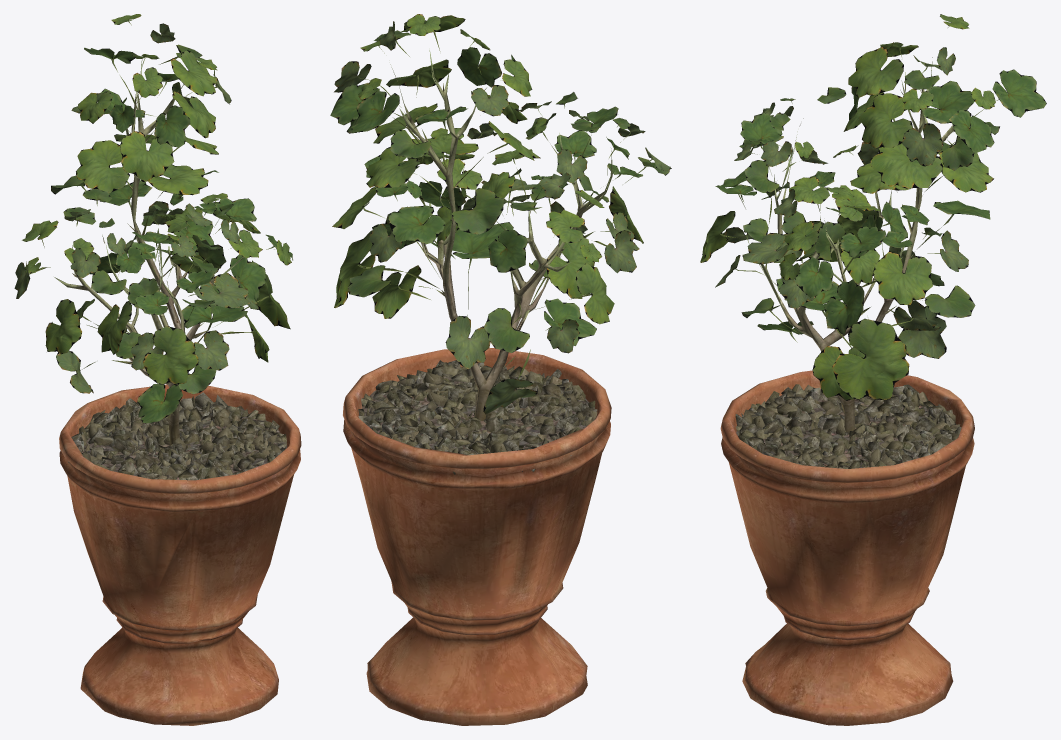
The model's file is potted_plant_01.glb.
The picture shows the model from 3 angles, left to right: view 1: azimuth 30°, elevation 25°; view 2: azimuth 150°, elevation 25°; view 3: azimuth 270°, elevation 25°; orthographic projection. The views are drawn at different scales.
Parts seen in each view (by area): view 1: potted_plant_01_pot, potted_plant_01_leaves, potted_plant_01_pebbles, potted_plant_01_stem; view 2: potted_plant_01_pot, potted_plant_01_leaves, potted_plant_01_pebbles, potted_plant_01_stem; view 3: potted_plant_01_pot, potted_plant_01_leaves, potted_plant_01_pebbles, potted_plant_01_stem.
Boxes of the visible parts, x1,y1,x2,y2 form: potted_plant_01_pot: [59, 384, 301, 725]; potted_plant_01_leaves: [14, 14, 292, 423]; potted_plant_01_pebbles: [68, 392, 286, 480]; potted_plant_01_stem: [54, 57, 244, 444]; potted_plant_01_pot: [343, 348, 611, 725]; potted_plant_01_leaves: [330, 14, 671, 414]; potted_plant_01_pebbles: [358, 360, 597, 474]; potted_plant_01_stem: [399, 50, 612, 420]; potted_plant_01_pot: [720, 370, 974, 725]; potted_plant_01_leaves: [700, 14, 1046, 400]; potted_plant_01_pebbles: [735, 384, 961, 468]; potted_plant_01_stem: [760, 57, 966, 434].
Bounding box in the file's own units: 0.5866 × 1.34 × 0.6336.
Materials: 2 (2 with a texture image).
